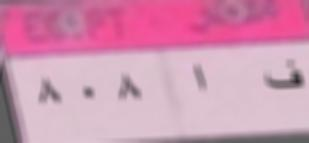0: (73, 78, 100, 110)
8: (110, 69, 144, 109), (33, 72, 63, 112)
alif: (189, 55, 212, 101)
faa: (259, 55, 309, 98)
